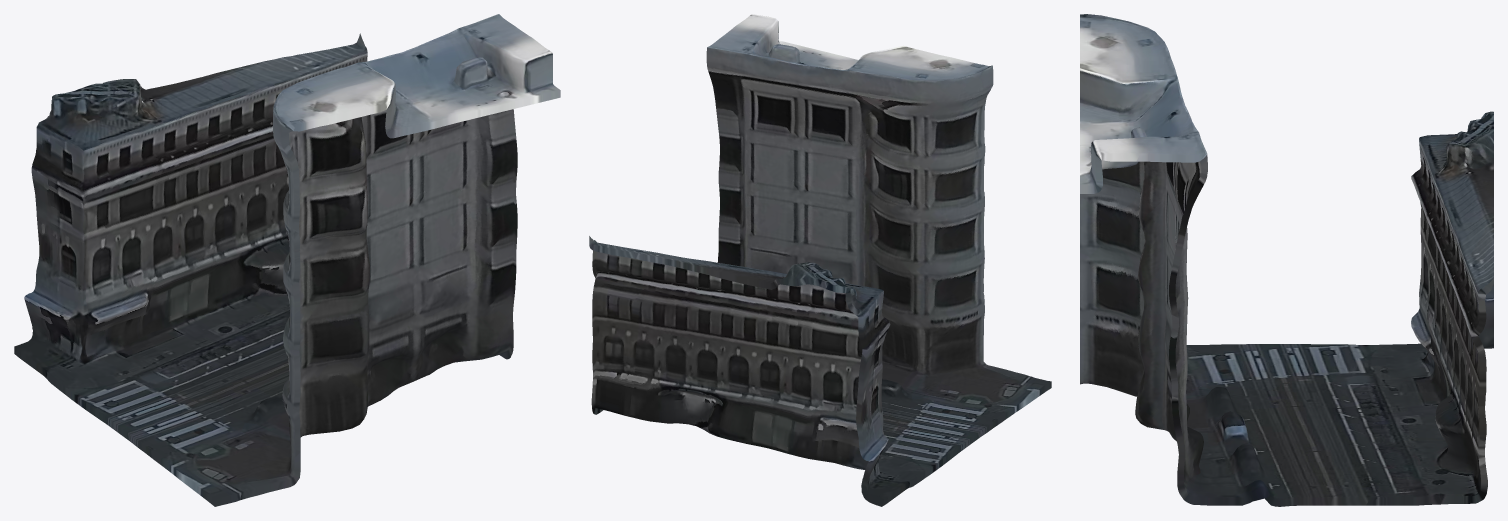
The model's file is z20-167747-405246-h0-yup-uvflip-v3-world.glb.
3 renders of one model, left to right at view 1: azimuth 30°, elevation 25°; view 2: azimuth 150°, elevation 25°; view 3: azimuth 270°, elevation 25°, orthographic. The views are drawn at different scales.
Bounding box in the file's own units: 30.16 × 30.4 × 30.32.
Materials: 1 (1 with a texture image).
